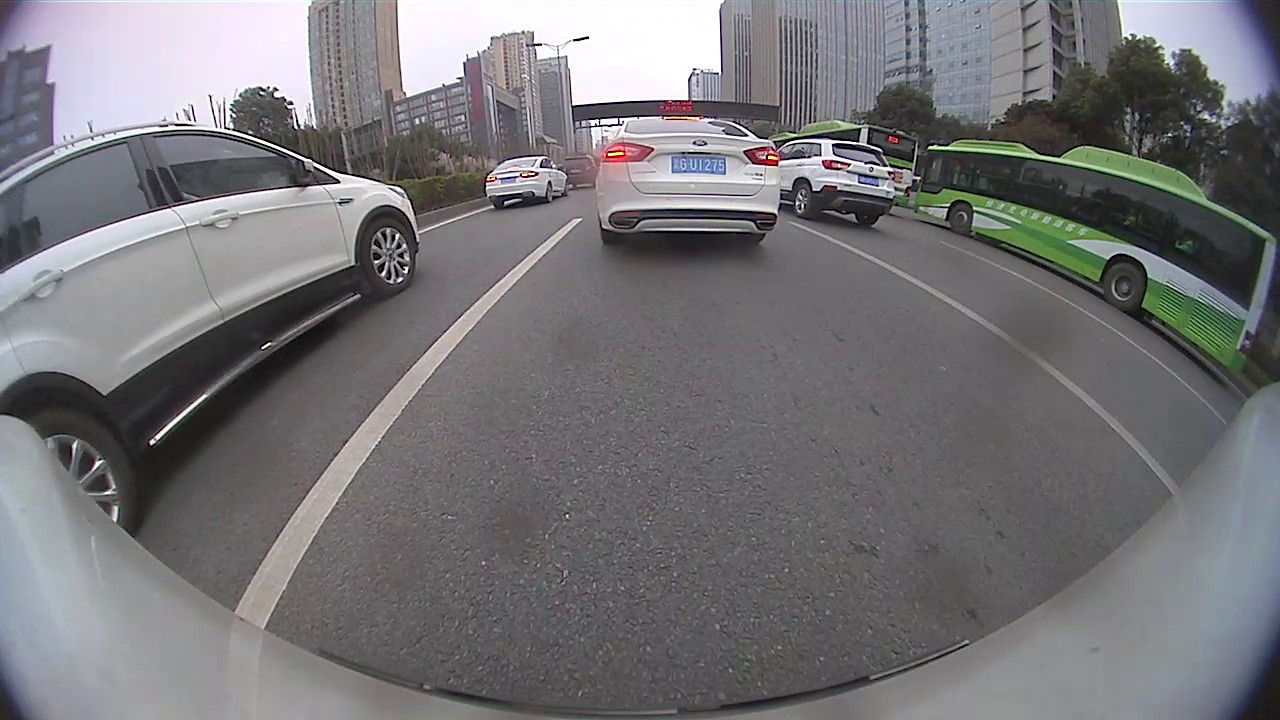bus: (914, 138, 1276, 379), (773, 125, 918, 206)
car: (1, 119, 421, 536), (595, 116, 784, 247), (776, 139, 895, 226), (486, 156, 568, 208), (562, 154, 601, 188)
front: (362, 215, 419, 296), (949, 205, 974, 236)
rear: (21, 408, 150, 536), (1102, 264, 1146, 311), (793, 183, 817, 221), (546, 180, 553, 204)
